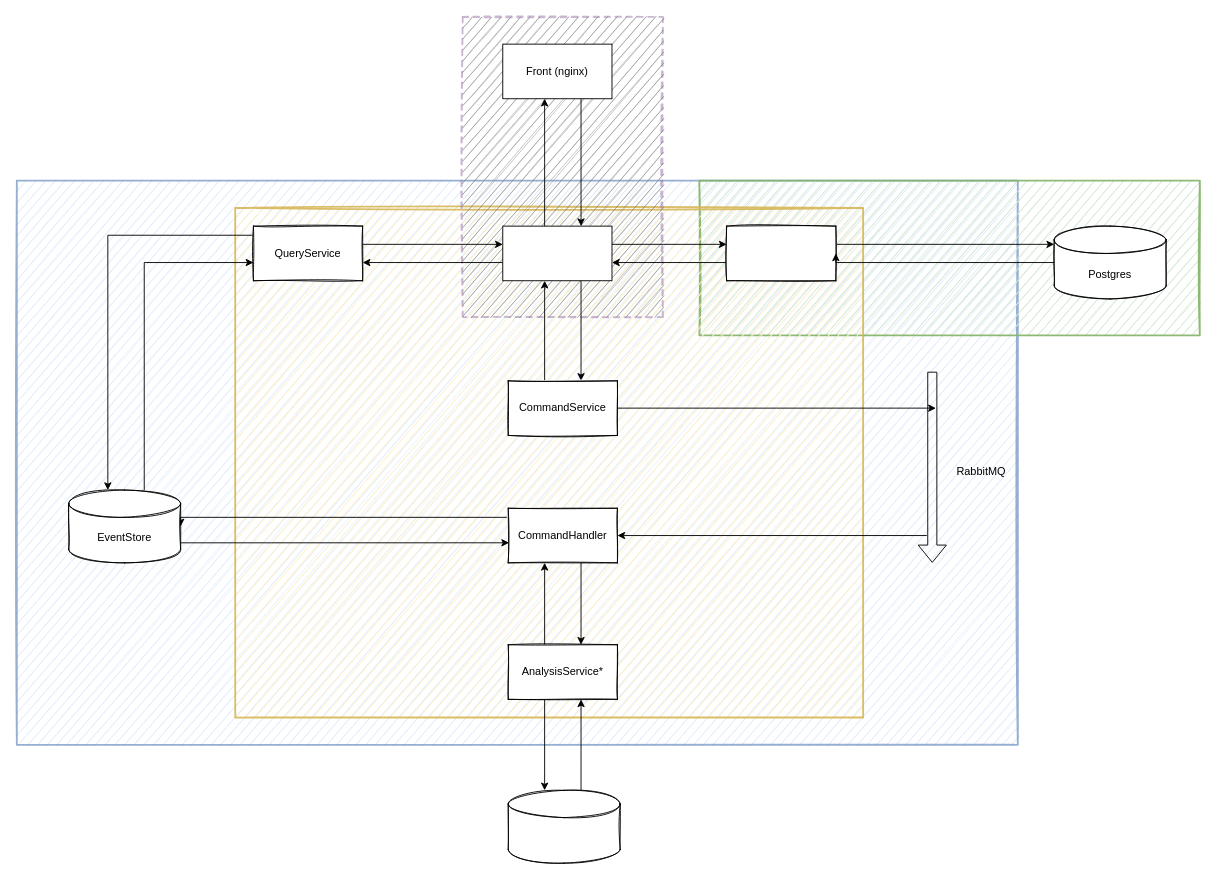
The diagram is 1216 pixels wide and 879 high, and some of its shapes have lost their labels. Here are the shapes that lost their labels. From the top down, the centre of each, then its label:
At point 557,253: "ApiGateway".
At point 781,253: "IdentityService".
At point 563,826: "HDFS".
